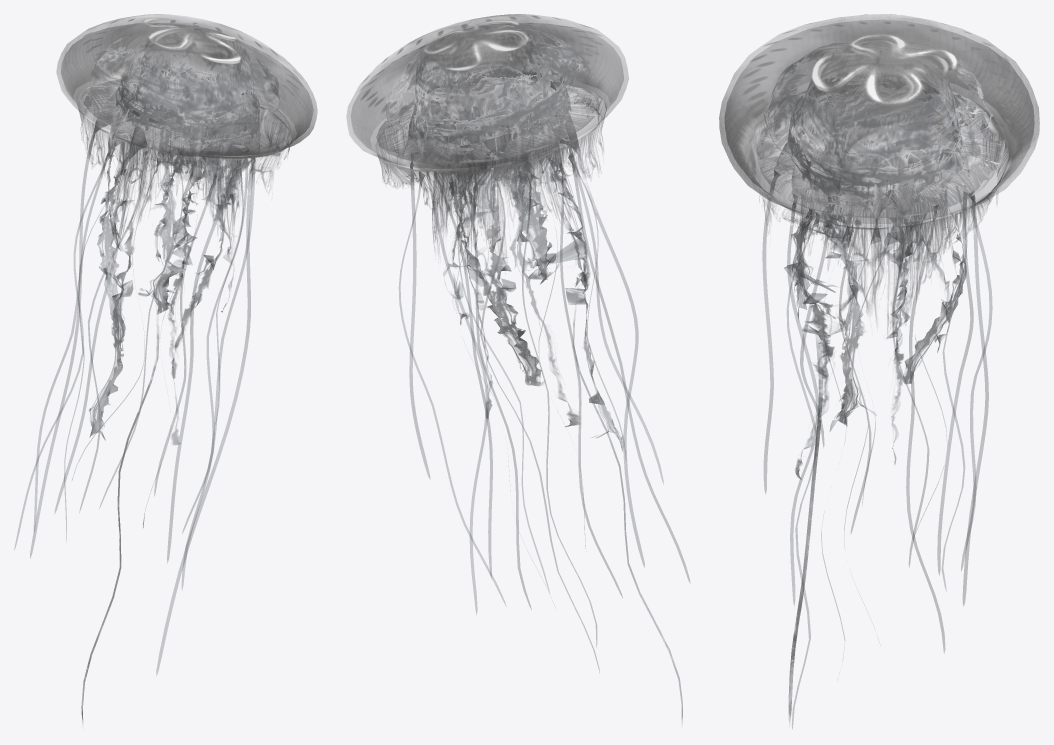
Rendered from jellyfish.glb.
3 views of the same model, side by side, from view 1: azimuth 30°, elevation 25°; view 2: azimuth 150°, elevation 25°; view 3: azimuth 270°, elevation 25° (orthographic). The views are drawn at different scales.
Parts seen in each view (by area): view 1: Jellyfish.002_0; view 2: Jellyfish.002_0; view 3: Jellyfish.002_0.
Boxes of the visible parts, bbox=[...] form: Jellyfish.002_0: bbox=[14, 14, 317, 721]; Jellyfish.002_0: bbox=[347, 14, 689, 720]; Jellyfish.002_0: bbox=[719, 14, 1039, 728].
Bounding box in the file's own units: 1.73 × 3.62 × 1.39.
Materials: 1 (1 with a texture image).
